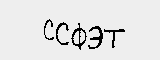С: (56, 19, 71, 48), (42, 17, 54, 45)
Т: (100, 27, 126, 49)
Ф: (70, 22, 87, 54)
Э: (86, 22, 105, 51)
